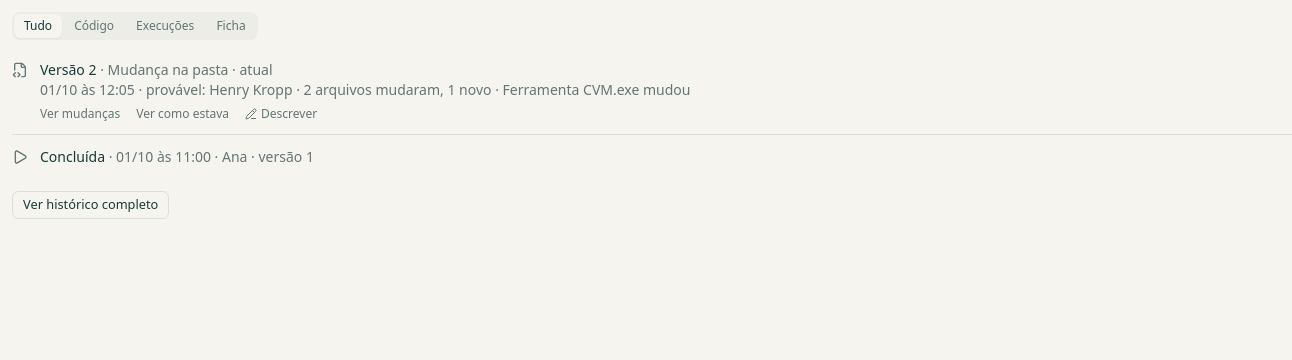
Scenario: preview shows the newest items and opens the rest on request
Expected: the number of list items is 2, [12,48,1291,135]; [12,147,314,166]
Click the button "Ver histórico completo": point(91, 205) [12,191,169,219]
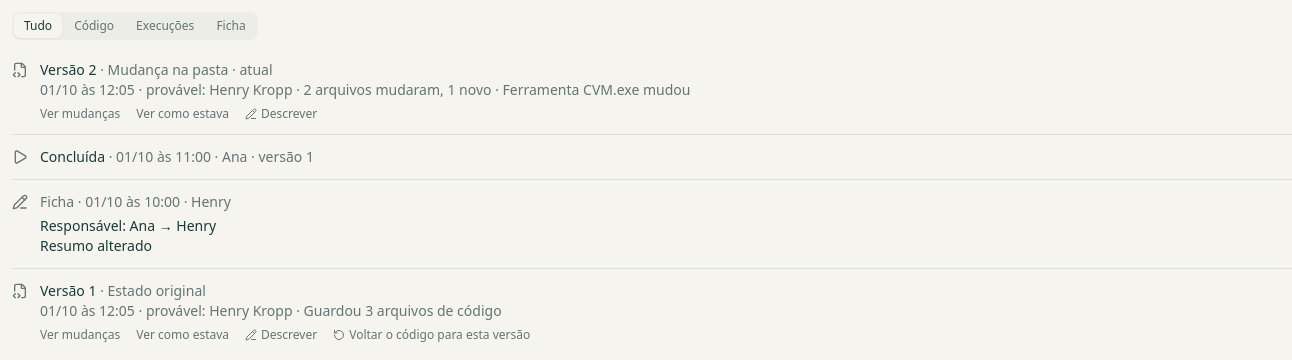
Expected: the number of list items is 4, [12,48,1291,135]; [12,135,1291,180]; [12,180,1291,269]; [12,281,530,343]
